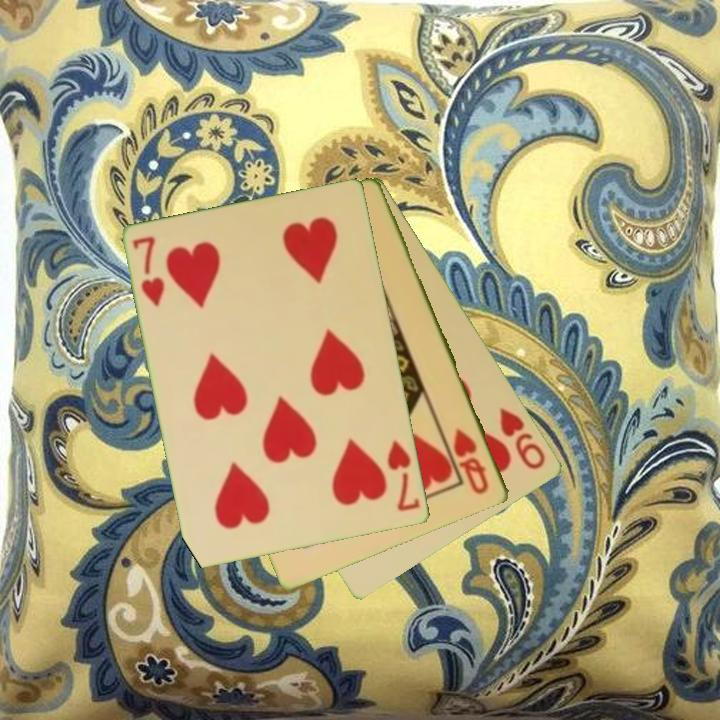7h: (384, 437, 423, 515), (129, 233, 168, 310)
9h: (496, 404, 549, 473)
Qh: (450, 424, 492, 498)
